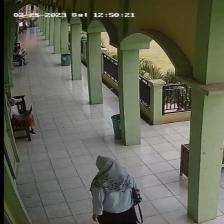Non Syar-i: (88, 157, 138, 195)
